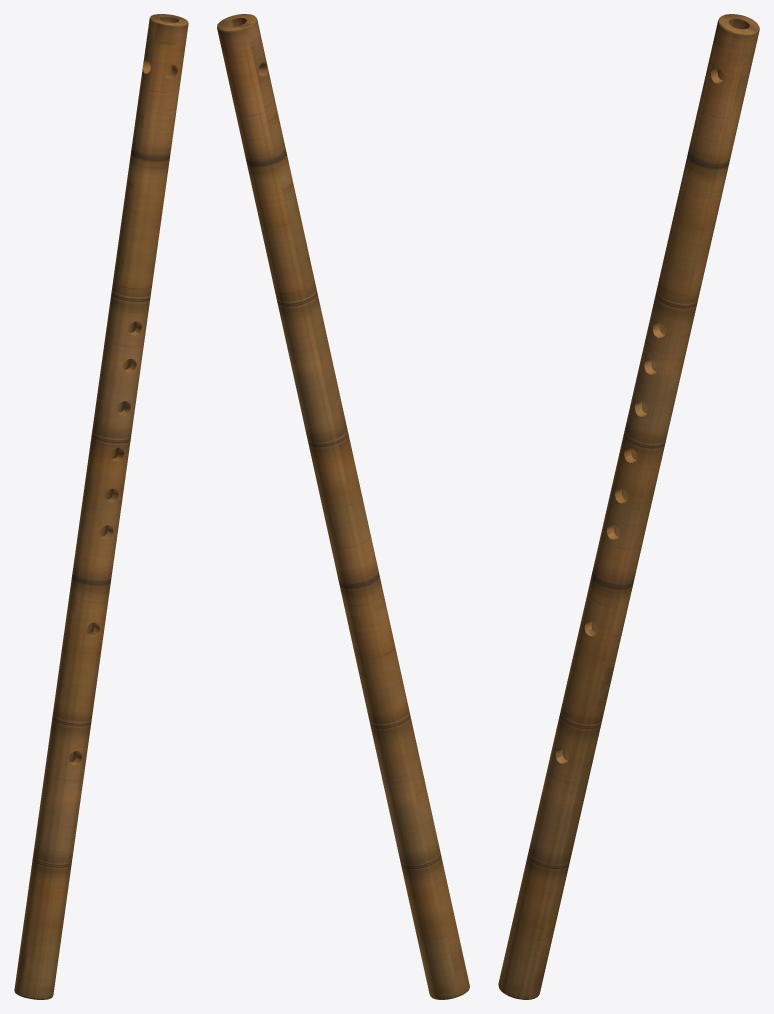
Rendered from yanqgin.glb.
3 views of the same model, side by side, from view 1: azimuth 30°, elevation 25°; view 2: azimuth 150°, elevation 25°; view 3: azimuth 330°, elevation 25° (orthographic). The views are drawn at different scales.
Parts seen in each view (by area): view 1: Material2_22; view 2: Material2_22; view 3: Material2_22.
Boxes of the visible parts, <box> form: Material2_22: <box>14,14,188,999</box>; Material2_22: <box>217,14,469,999</box>; Material2_22: <box>498,14,759,999</box>.
Size of the model in its own units: 4.67 by 20.2 by 2.14.
Materials: 1 (1 with a texture image).
